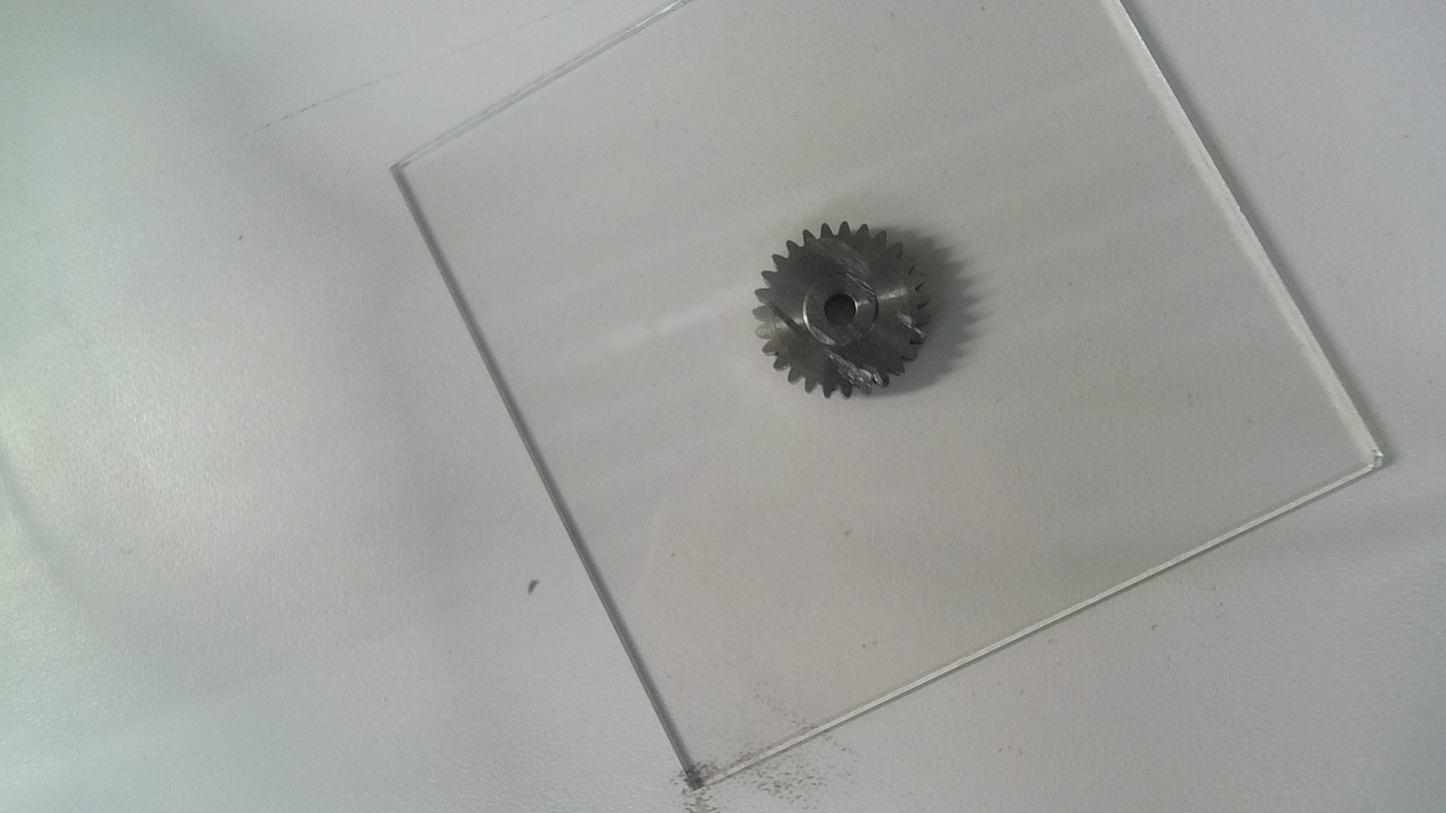gear: (751, 219, 931, 405)
